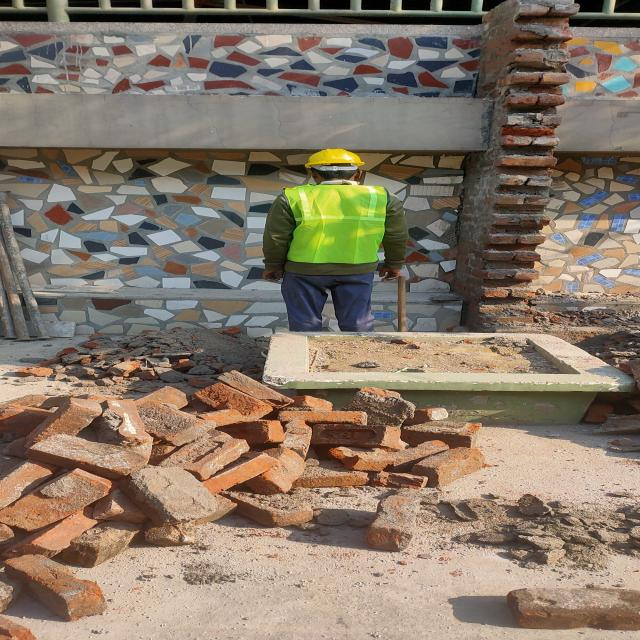safe: (262, 148, 408, 331)
